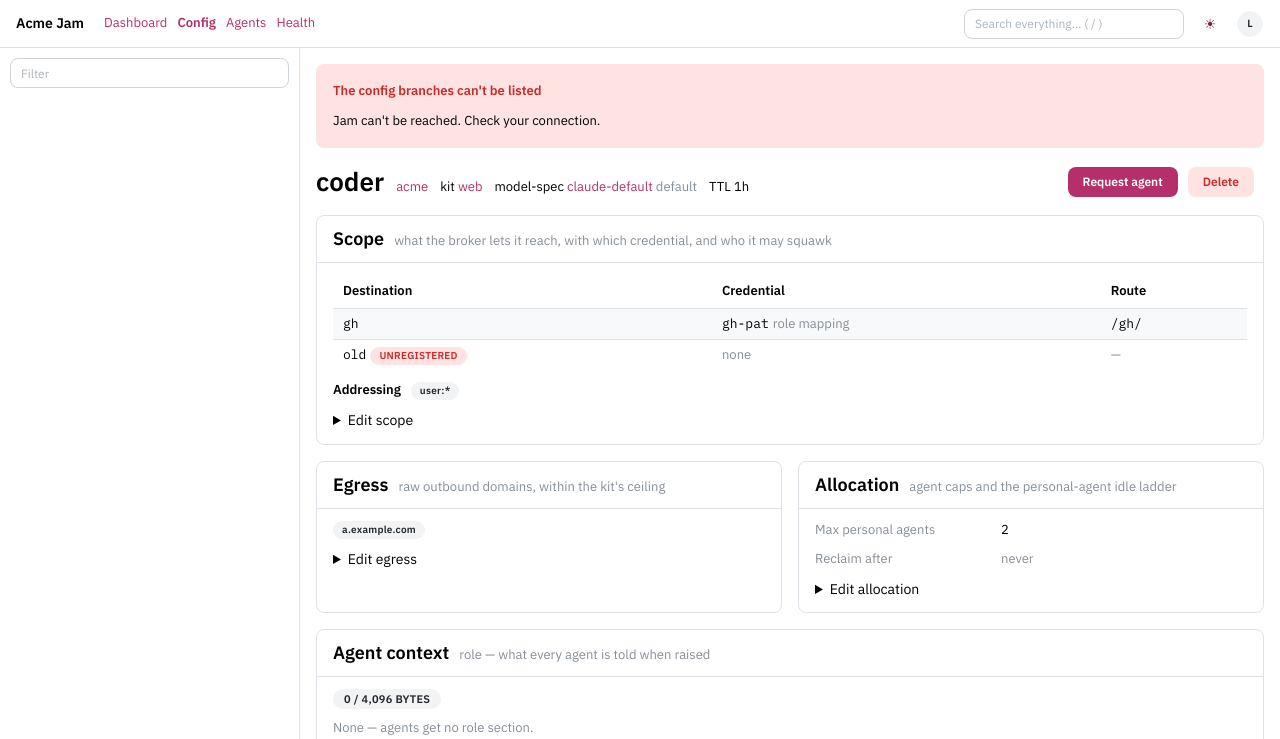
Test case: a role's page › saves the scope from its prefilled form, and shows a refusal inline
The width and height of the screenshot is (1280, 739).
Click the heading "Edit scope" at (380, 420), box [348,411,413,429]
(page scrolled)
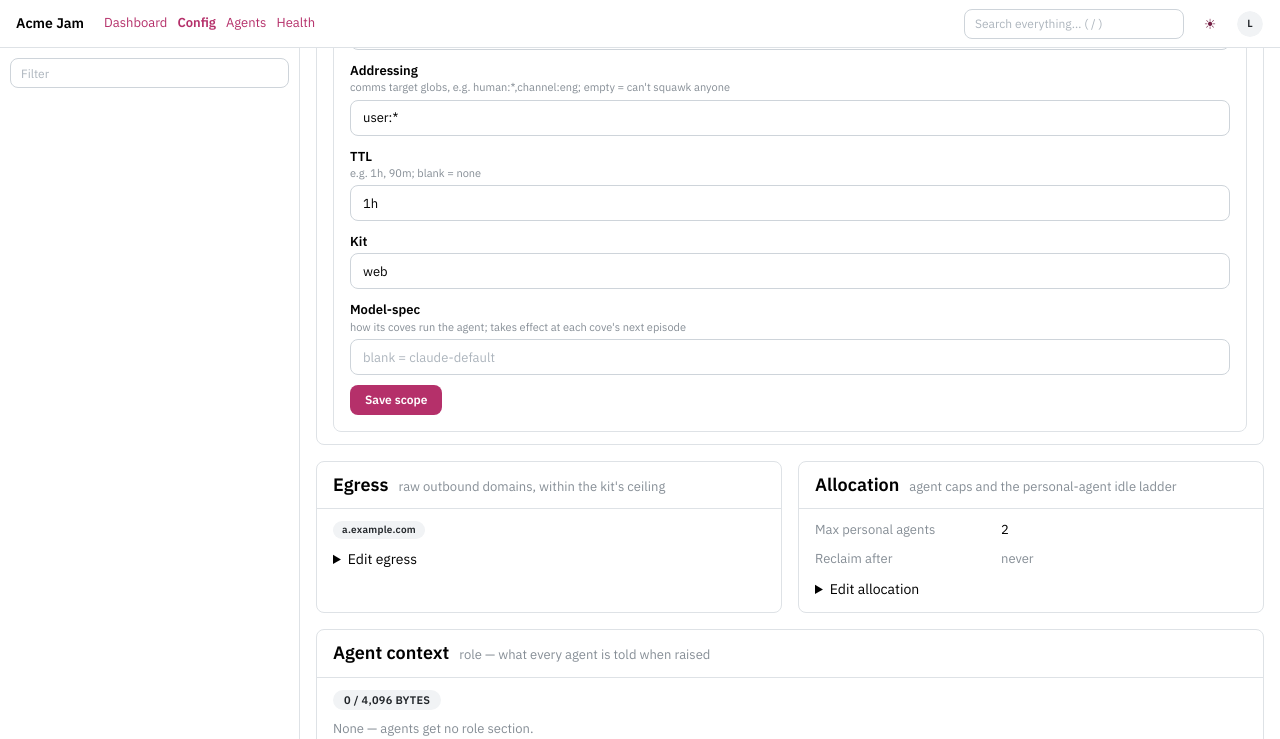
Click the button "Save scope" at (396, 400), box [350,385,442,415]
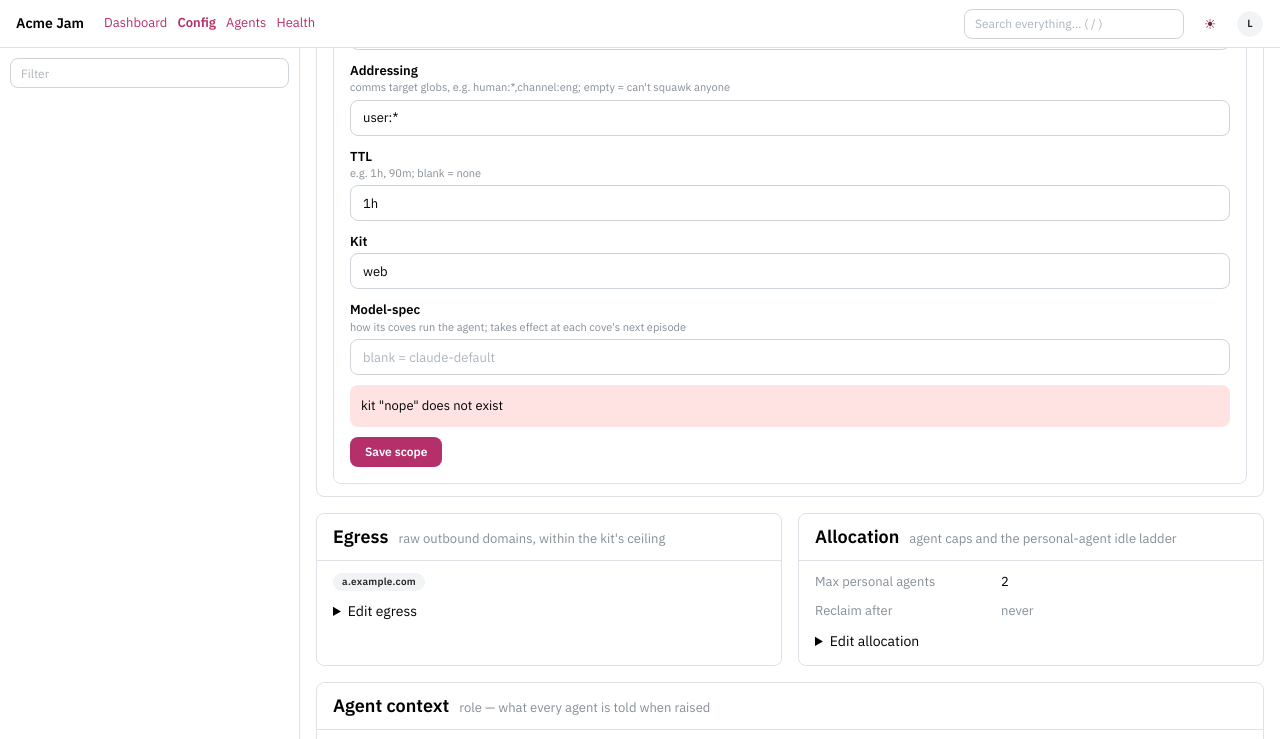
Expected: the text "kit \"nope\" does not exist" is shown, [361,397,503,414]
Click the button "Save scope" at (396, 452), box [350,437,442,467]
(page scrolled)
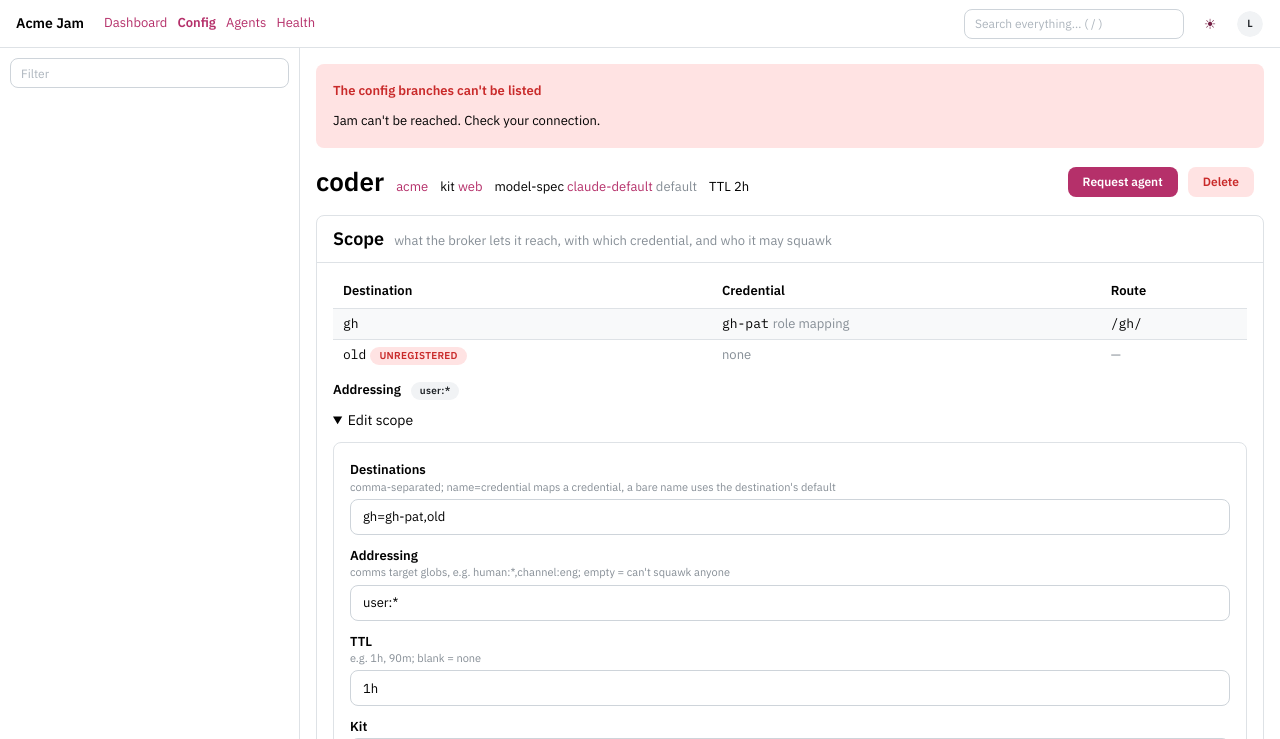
Expected: the text "TTL 2h" is shown, [709,178,749,197]
